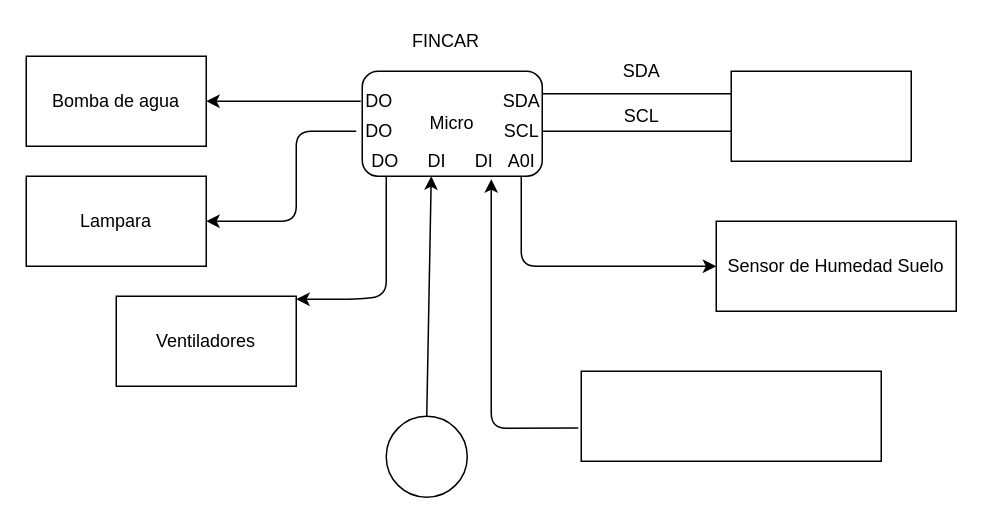
This 983x524 diagram has some shape labels left out. The shapes that lost their labels are listed below. From the top down, each one's centre as x and y in pixels, then its label:
point (820, 115): Display
point (730, 415): Sensor de temp. y humedad hamb.
point (426, 456): Botones
